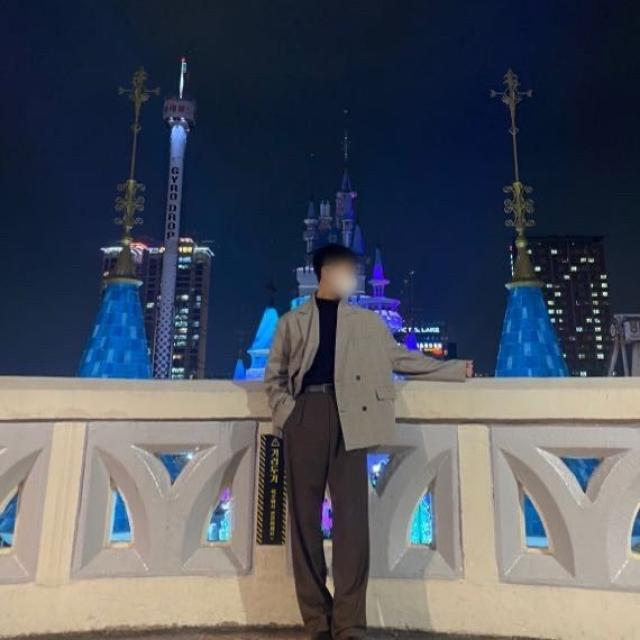blazer: (263, 300, 468, 450)
slacks: (276, 384, 371, 640)
